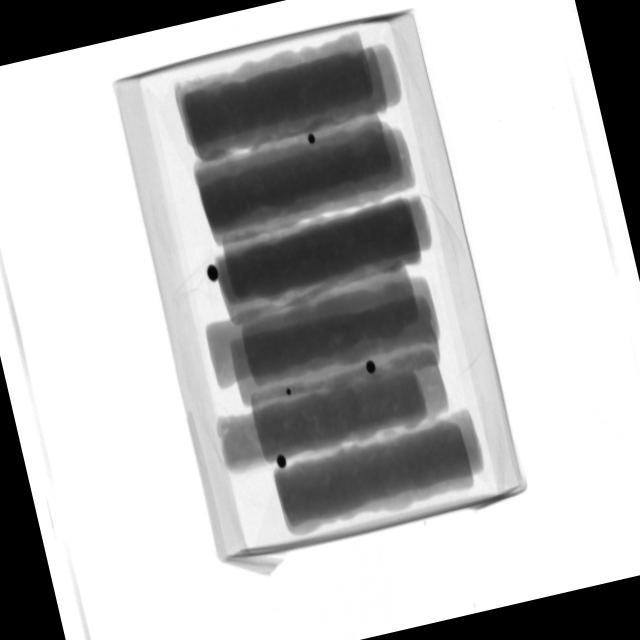ym: (205, 264, 221, 283), (276, 454, 290, 471), (366, 358, 378, 375), (308, 134, 318, 145), (286, 388, 294, 397)
